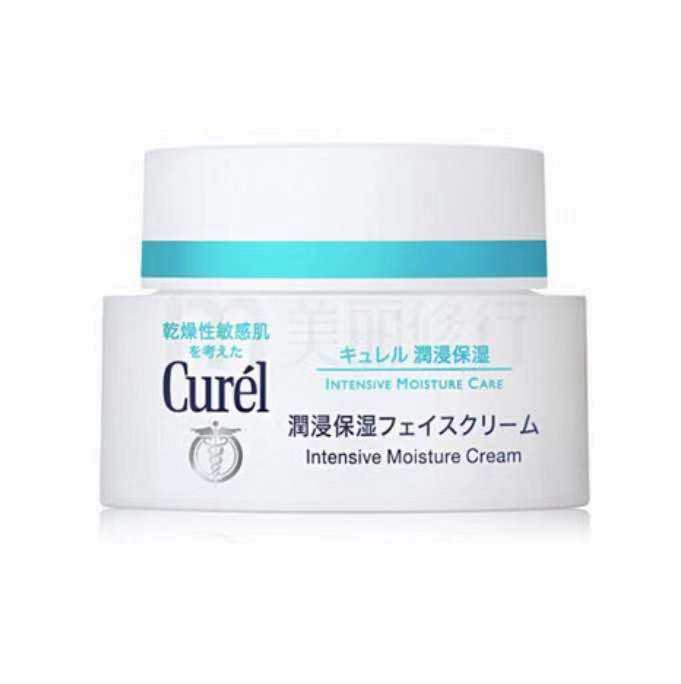cosmetic: (91, 146, 591, 509)
